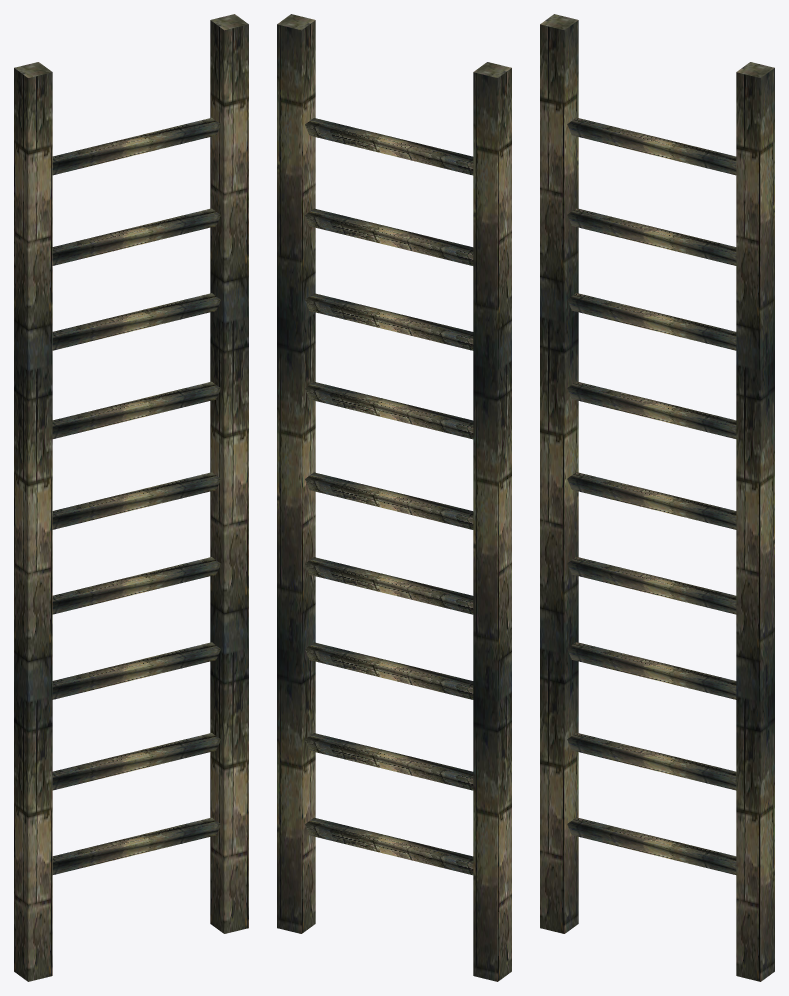
The picture shows the model from 3 angles, left to right: view 1: azimuth 30°, elevation 25°; view 2: azimuth 150°, elevation 25°; view 3: azimuth 330°, elevation 25°; orthographic projection.
Visible parts, largest first — view 1: Stair01; view 2: Stair01; view 3: Stair01.
Part boxes in pixels (x1,y1,x2,y2): Stair01: (14, 14, 248, 981); Stair01: (277, 14, 511, 981); Stair01: (540, 14, 774, 981).
Bounding box in the file's own units: 84.32 × 330 × 9.38.
